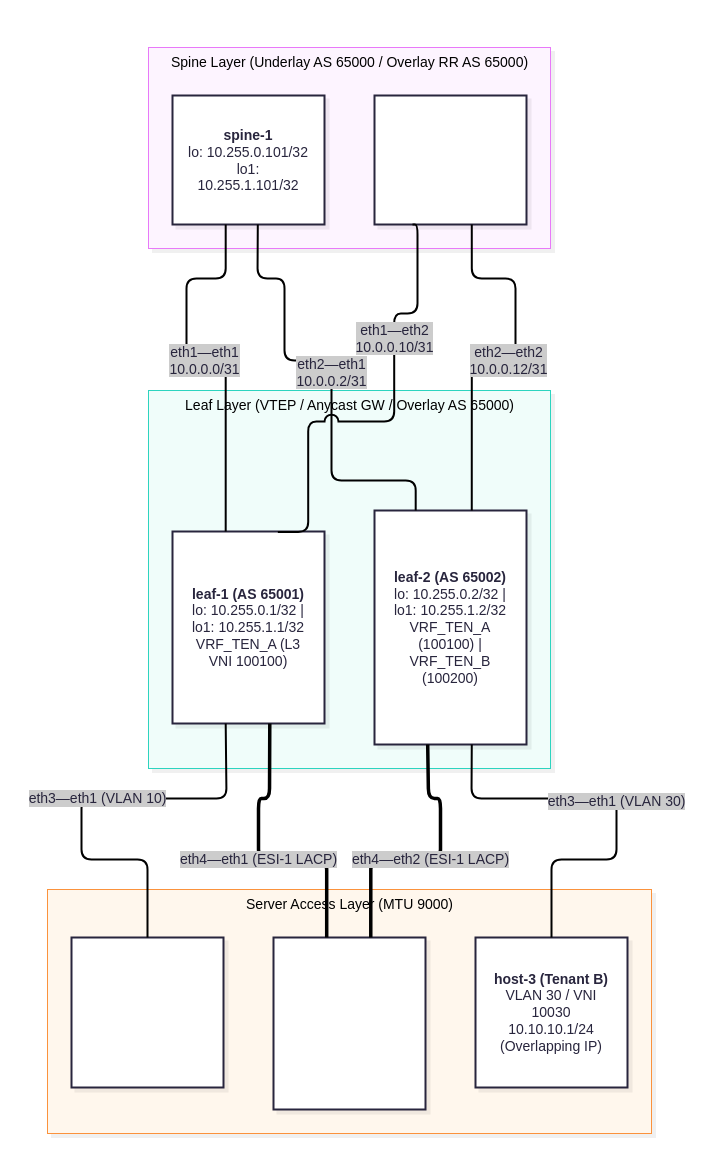
This 702x1155 diagram has some shape labels left out. The centre of each missing label's shape, as x and y in pixels:
"host-1 (Tenant A) VLAN 10 / VNI 10010 10.10.10.1/24 (GW .254)" goes at pixel 149 1014.
"host-2 (Tenant A - HPC) VLAN 20 / VNI 10020 10.10.20.2/24 (EVPN-MH LACP)" goes at pixel 351 1025.
"spine-2 lo: 10.255.0.102/32 lo1: 10.255.1.102/32" goes at pixel 452 161.
